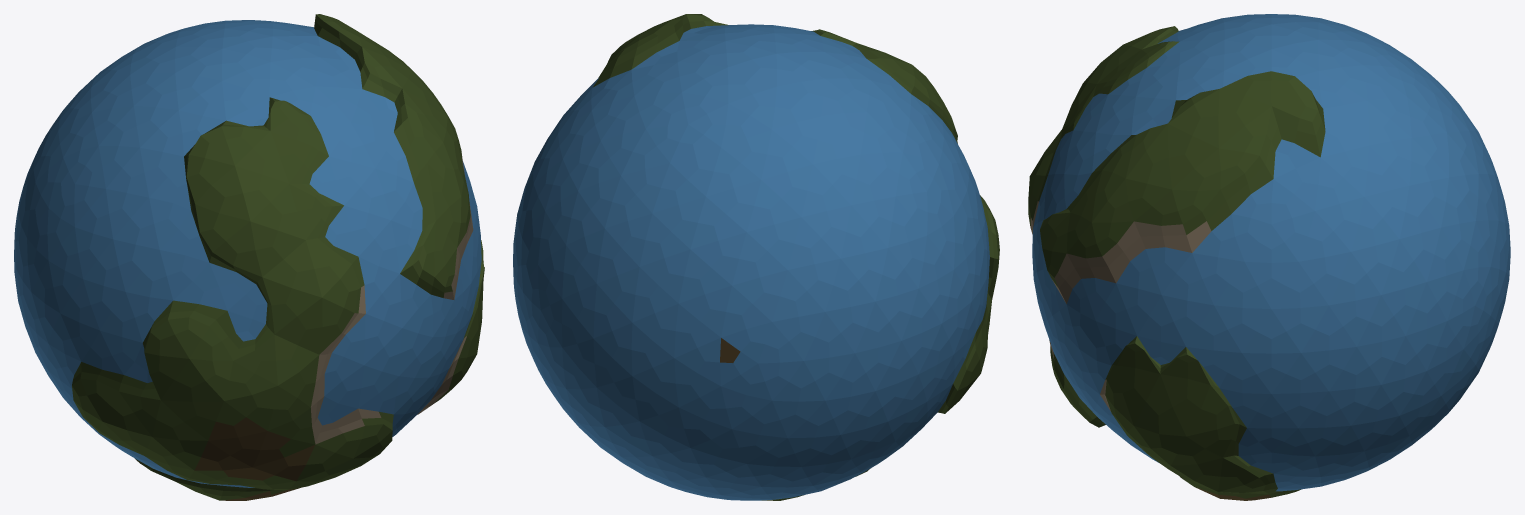
Rendered from Mdl_Planet1.fbx.
The picture shows the model from 3 angles, left to right: view 1: azimuth 30°, elevation 25°; view 2: azimuth 150°, elevation 25°; view 3: azimuth 270°, elevation 25°; orthographic projection. The views are drawn at different scales.
Visible parts, largest first — view 1: planet_base; view 2: planet_base; view 3: planet_base.
Part boxes in pixels (x1,y1,x2,y2): planet_base: (14, 14, 484, 500); planet_base: (513, 14, 999, 500); planet_base: (1028, 14, 1510, 500).
Bounding box in the file's own units: 9.94 × 10.4 × 10.02.
